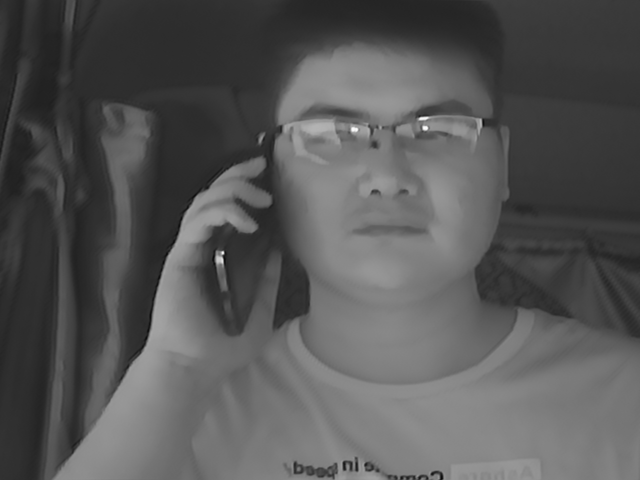hand: (151, 160, 277, 352)
